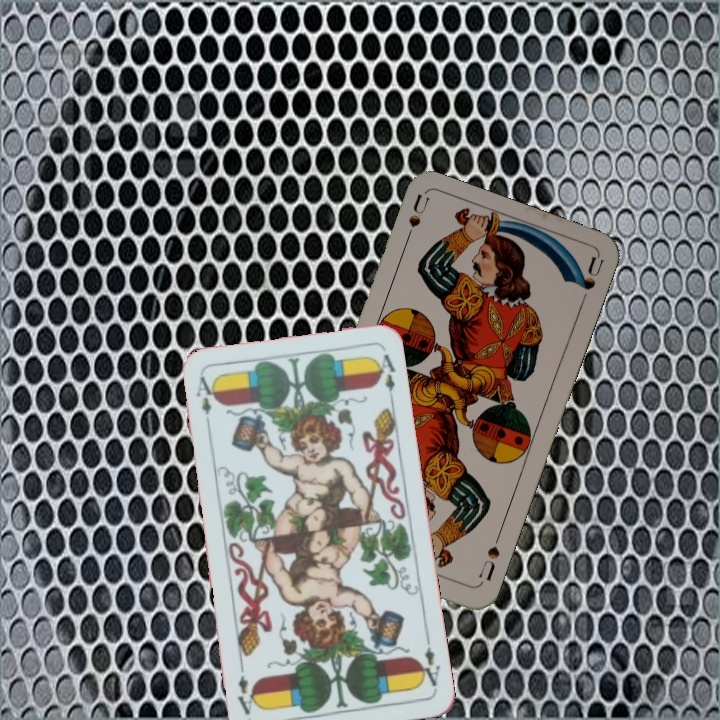EA: (414, 632, 443, 689), (192, 372, 214, 431)
SU: (399, 192, 432, 250), (475, 529, 504, 584)
